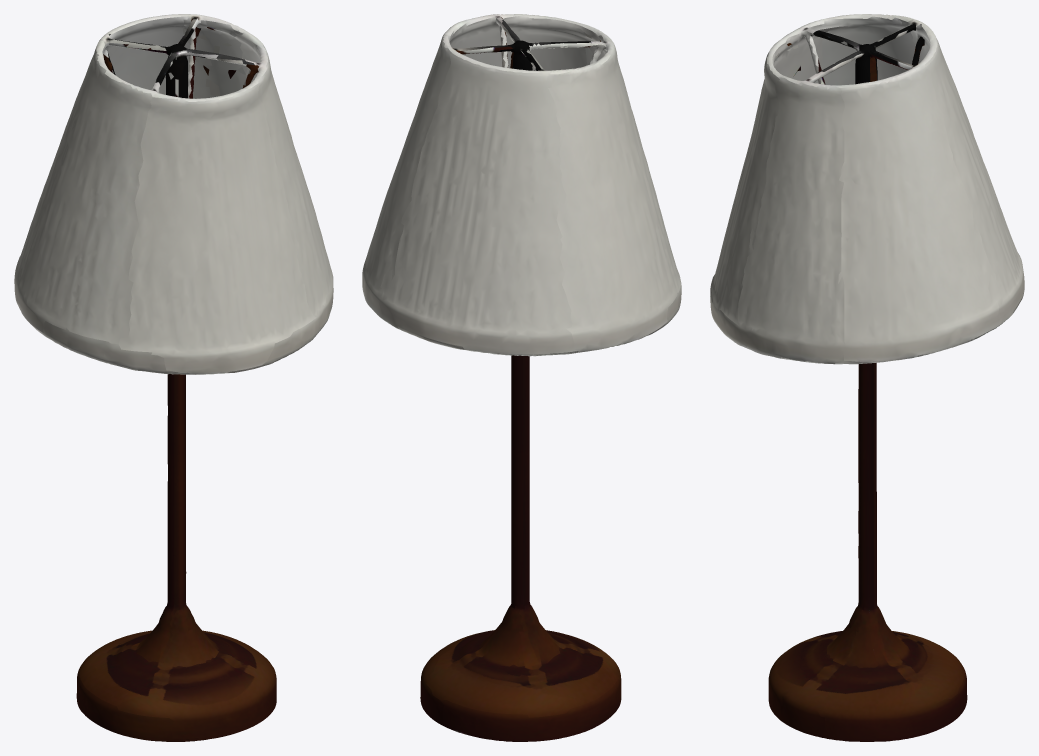
The model's file is lamp__lamp#5.glb.
3 views of the same model, side by side, from view 1: azimuth 30°, elevation 25°; view 2: azimuth 150°, elevation 25°; view 3: azimuth 270°, elevation 25° (orthographic).
Parts seen in each view (by area): view 1: tmpxwwkfv_e.ply; view 2: tmpxwwkfv_e.ply; view 3: tmpxwwkfv_e.ply.
Boxes of the visible parts, x1,y1,x2,y2 form: tmpxwwkfv_e.ply: [14, 14, 333, 741]; tmpxwwkfv_e.ply: [362, 14, 681, 741]; tmpxwwkfv_e.ply: [710, 14, 1024, 741].
Bounding box in the file's own units: 0.8812 × 1.99 × 0.8619.
Materials: 1 (1 with a texture image).
